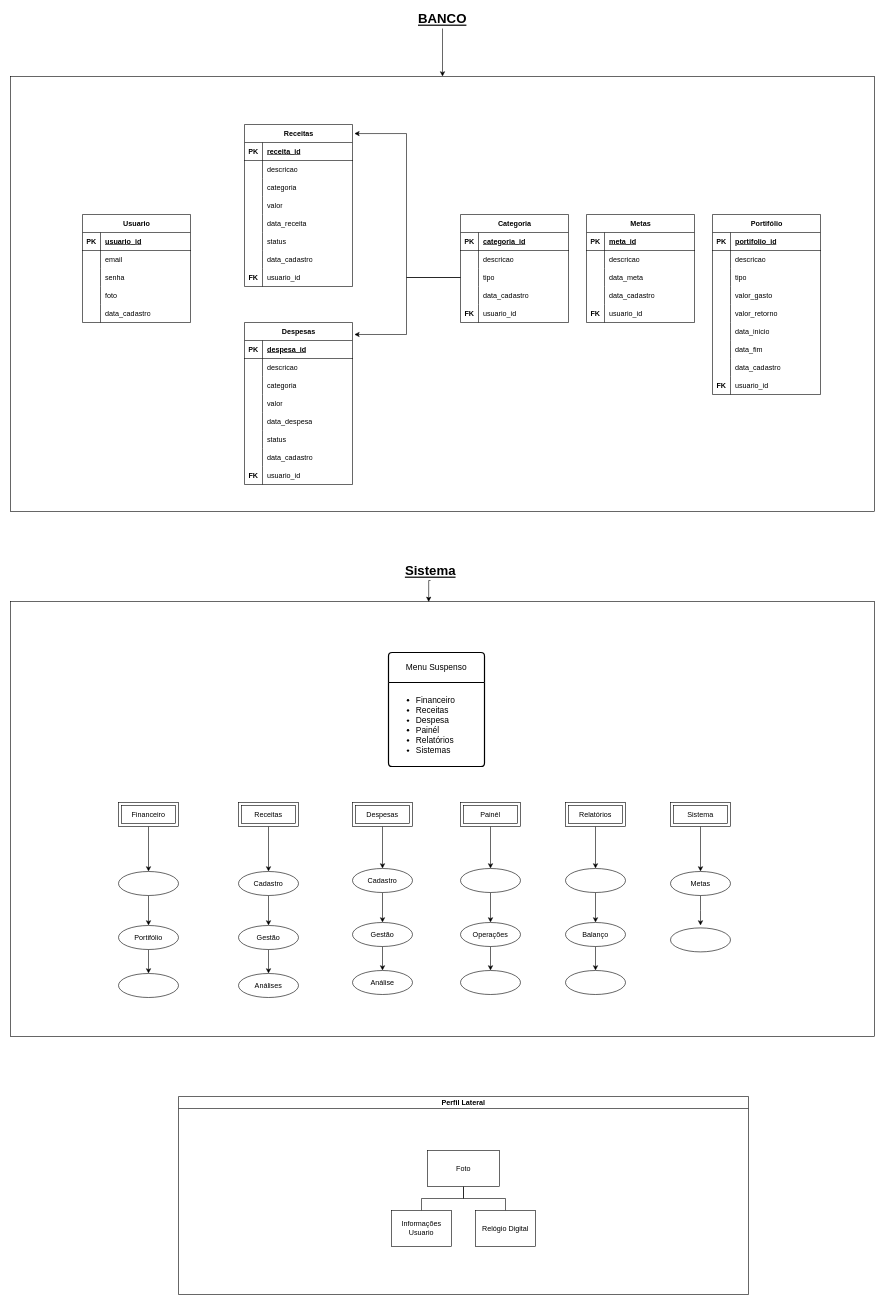
Image size: 885x1305. Some labels were removed from this diagram. The shapes that lost their labels are listed below. From the top down, each one's centre as x and y in pixels, then its label:
At point (148, 883): "Fluxo".
At point (490, 880): "Perfomance".
At point (595, 880): "Gastos".
At point (700, 939): "Noticías".
At point (148, 985): "Extratos".
At point (490, 982): "Giro".
At point (595, 982): "Contas".
